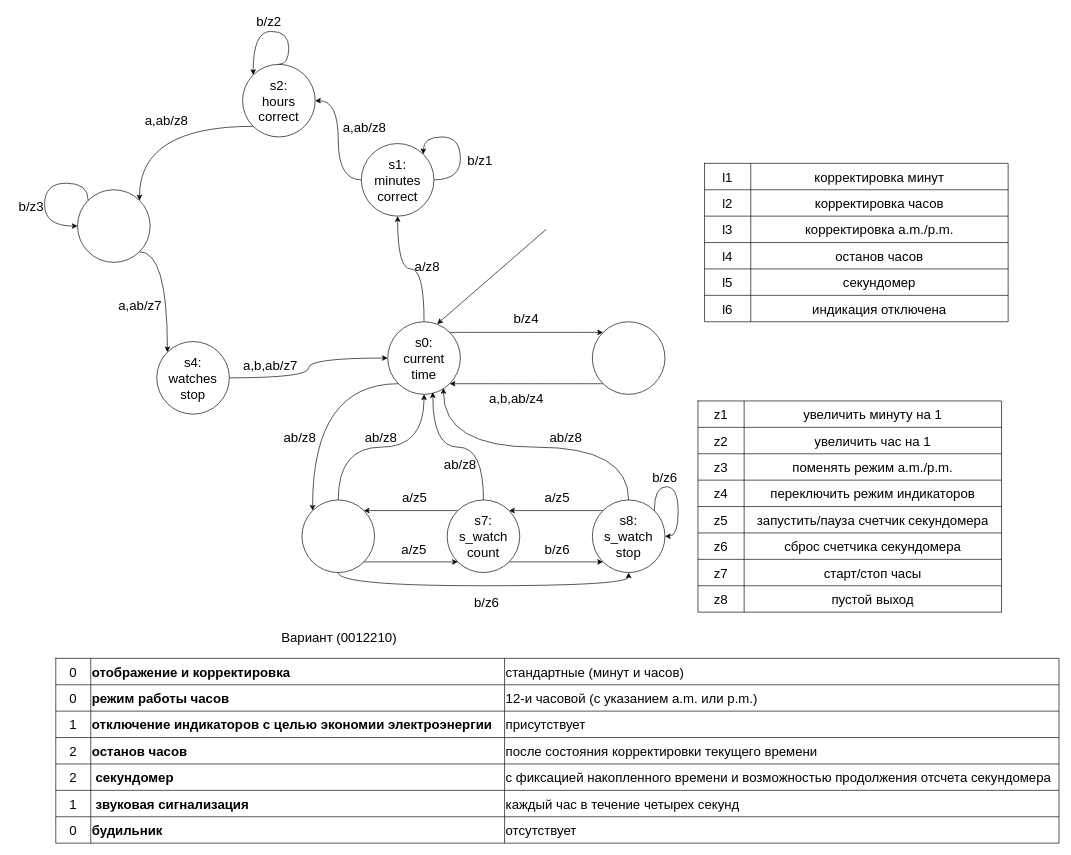
Some shapes in this 1071 by 855 pixel diagram are drawn without their labels. Each missing label, with the centre of its shape:
"s3: meridiem correct" goes at (x=113, y=225).
"s5: indicators off" goes at (x=628, y=357).
"s6: s_watch pause" goes at (x=338, y=536).
